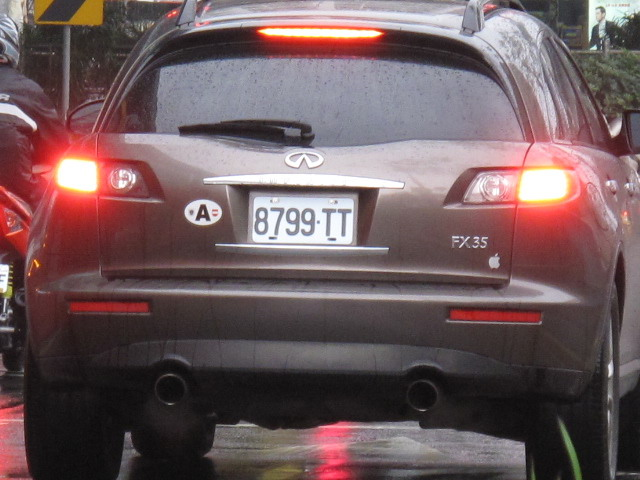plate: (250, 194, 353, 247)
